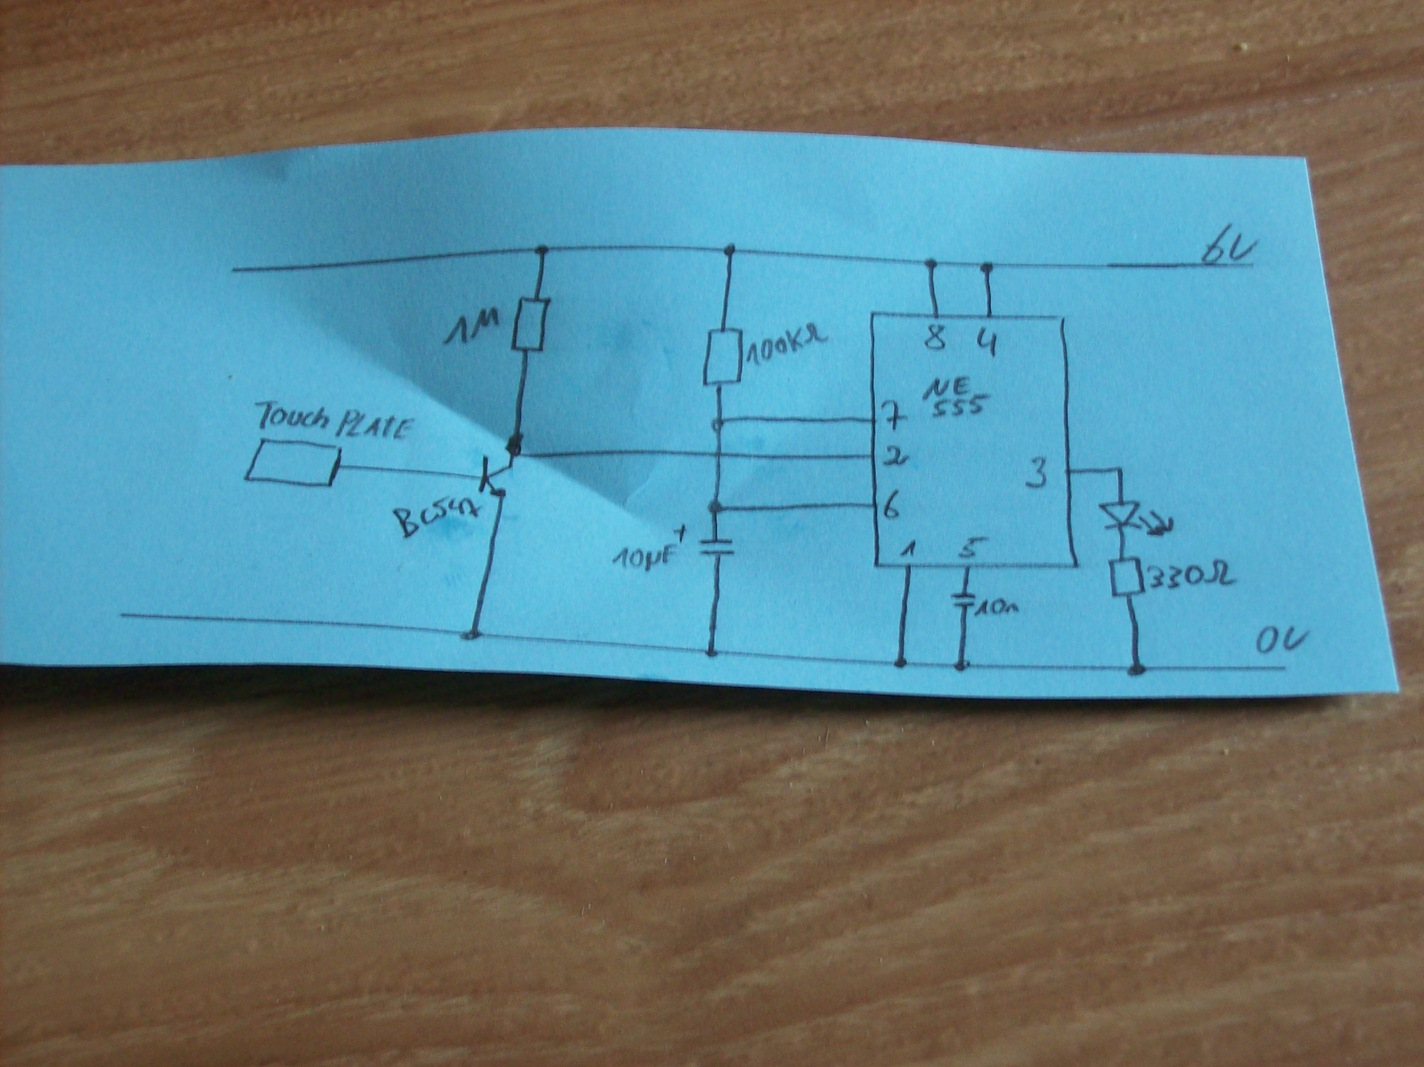capacitor.polarized: (672, 522, 737, 559)
capacitor.unpolarized: (950, 590, 977, 609)
crossover: (710, 447, 728, 461)
diode.light_emitting: (1097, 499, 1178, 538)
integrated_cricuit.ne555: (866, 306, 1085, 572)
junction: (503, 432, 525, 458), (458, 627, 485, 643), (1125, 660, 1150, 678), (706, 497, 727, 516), (531, 241, 552, 260), (710, 414, 729, 434), (977, 258, 998, 276), (720, 240, 739, 259), (891, 656, 913, 671), (952, 657, 972, 674), (702, 644, 722, 660), (923, 256, 940, 272), (1113, 462, 1127, 475)
resistor: (700, 325, 745, 390), (508, 294, 551, 356), (1107, 555, 1147, 601)
terminal: (240, 435, 345, 490), (1273, 659, 1295, 676), (115, 607, 137, 623), (1241, 258, 1260, 271), (225, 263, 245, 275)
text: (254, 398, 416, 442), (392, 491, 482, 540), (745, 321, 830, 367), (920, 374, 993, 421), (1145, 557, 1238, 591), (1199, 222, 1262, 265), (441, 305, 501, 347), (611, 542, 679, 573), (1255, 623, 1312, 656), (879, 397, 909, 433), (956, 533, 990, 562), (975, 324, 1002, 360), (974, 597, 1021, 618), (1023, 454, 1049, 490), (921, 321, 949, 353), (882, 488, 904, 521), (881, 443, 910, 468), (899, 536, 918, 560)
transistor: (476, 455, 515, 502)
